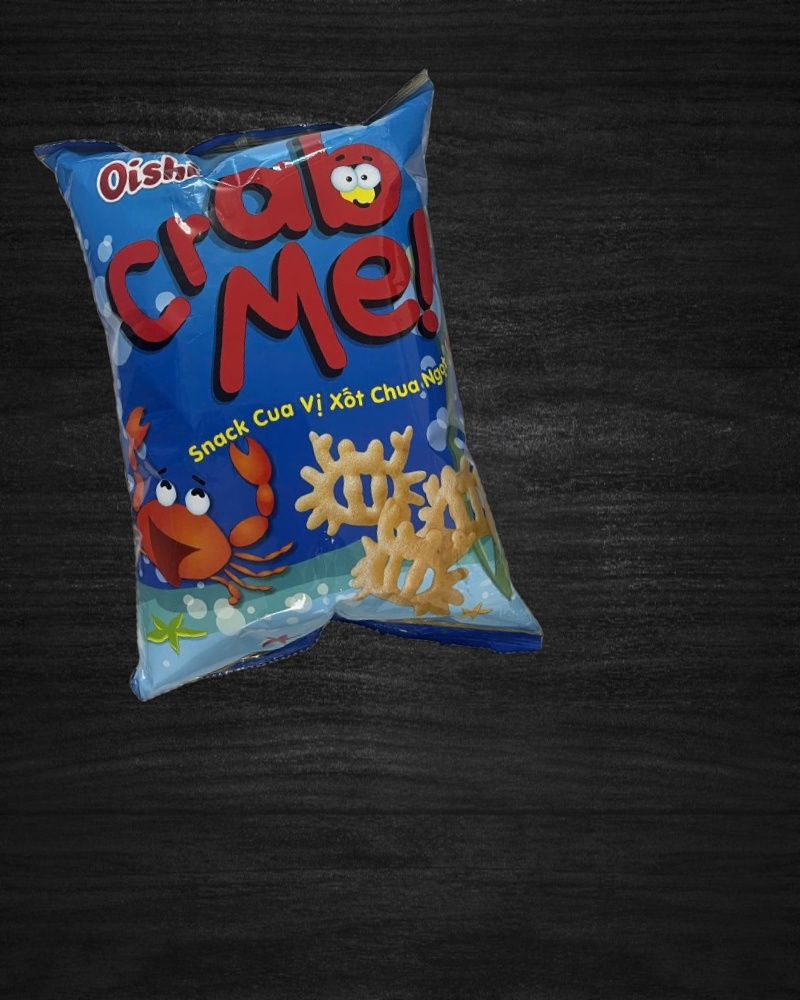Snack cua: (32, 66, 546, 716)
